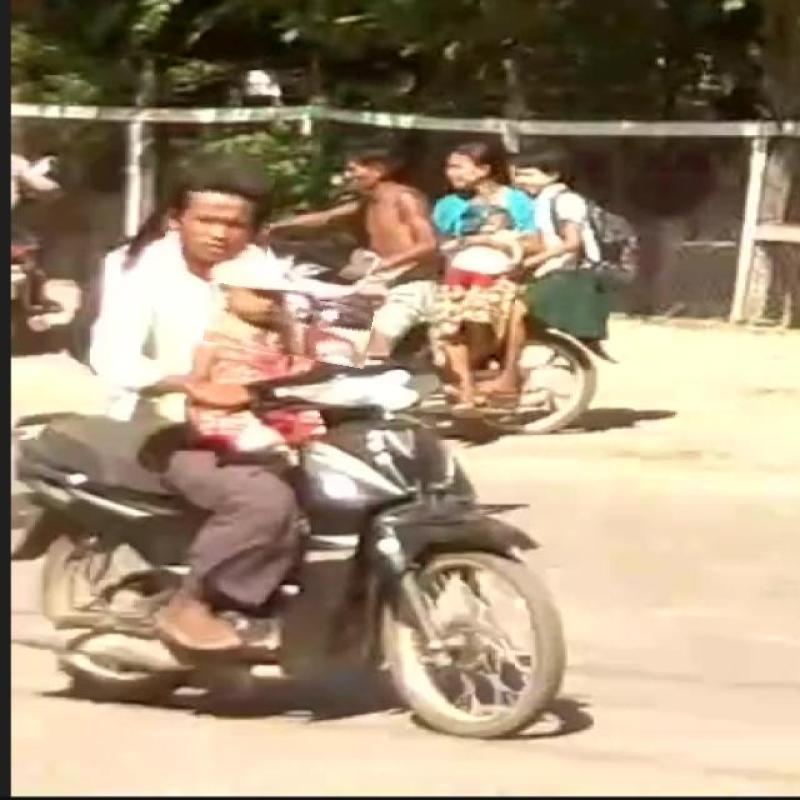nohelmet: (206, 289, 372, 363), (164, 168, 272, 280)
